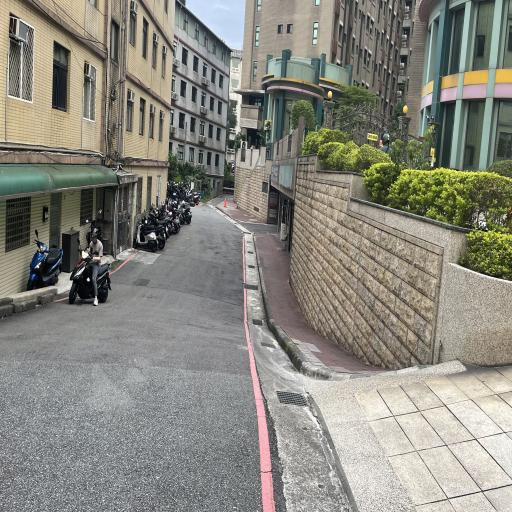redline: (238, 233, 280, 511), (107, 246, 141, 284), (50, 291, 72, 305)
